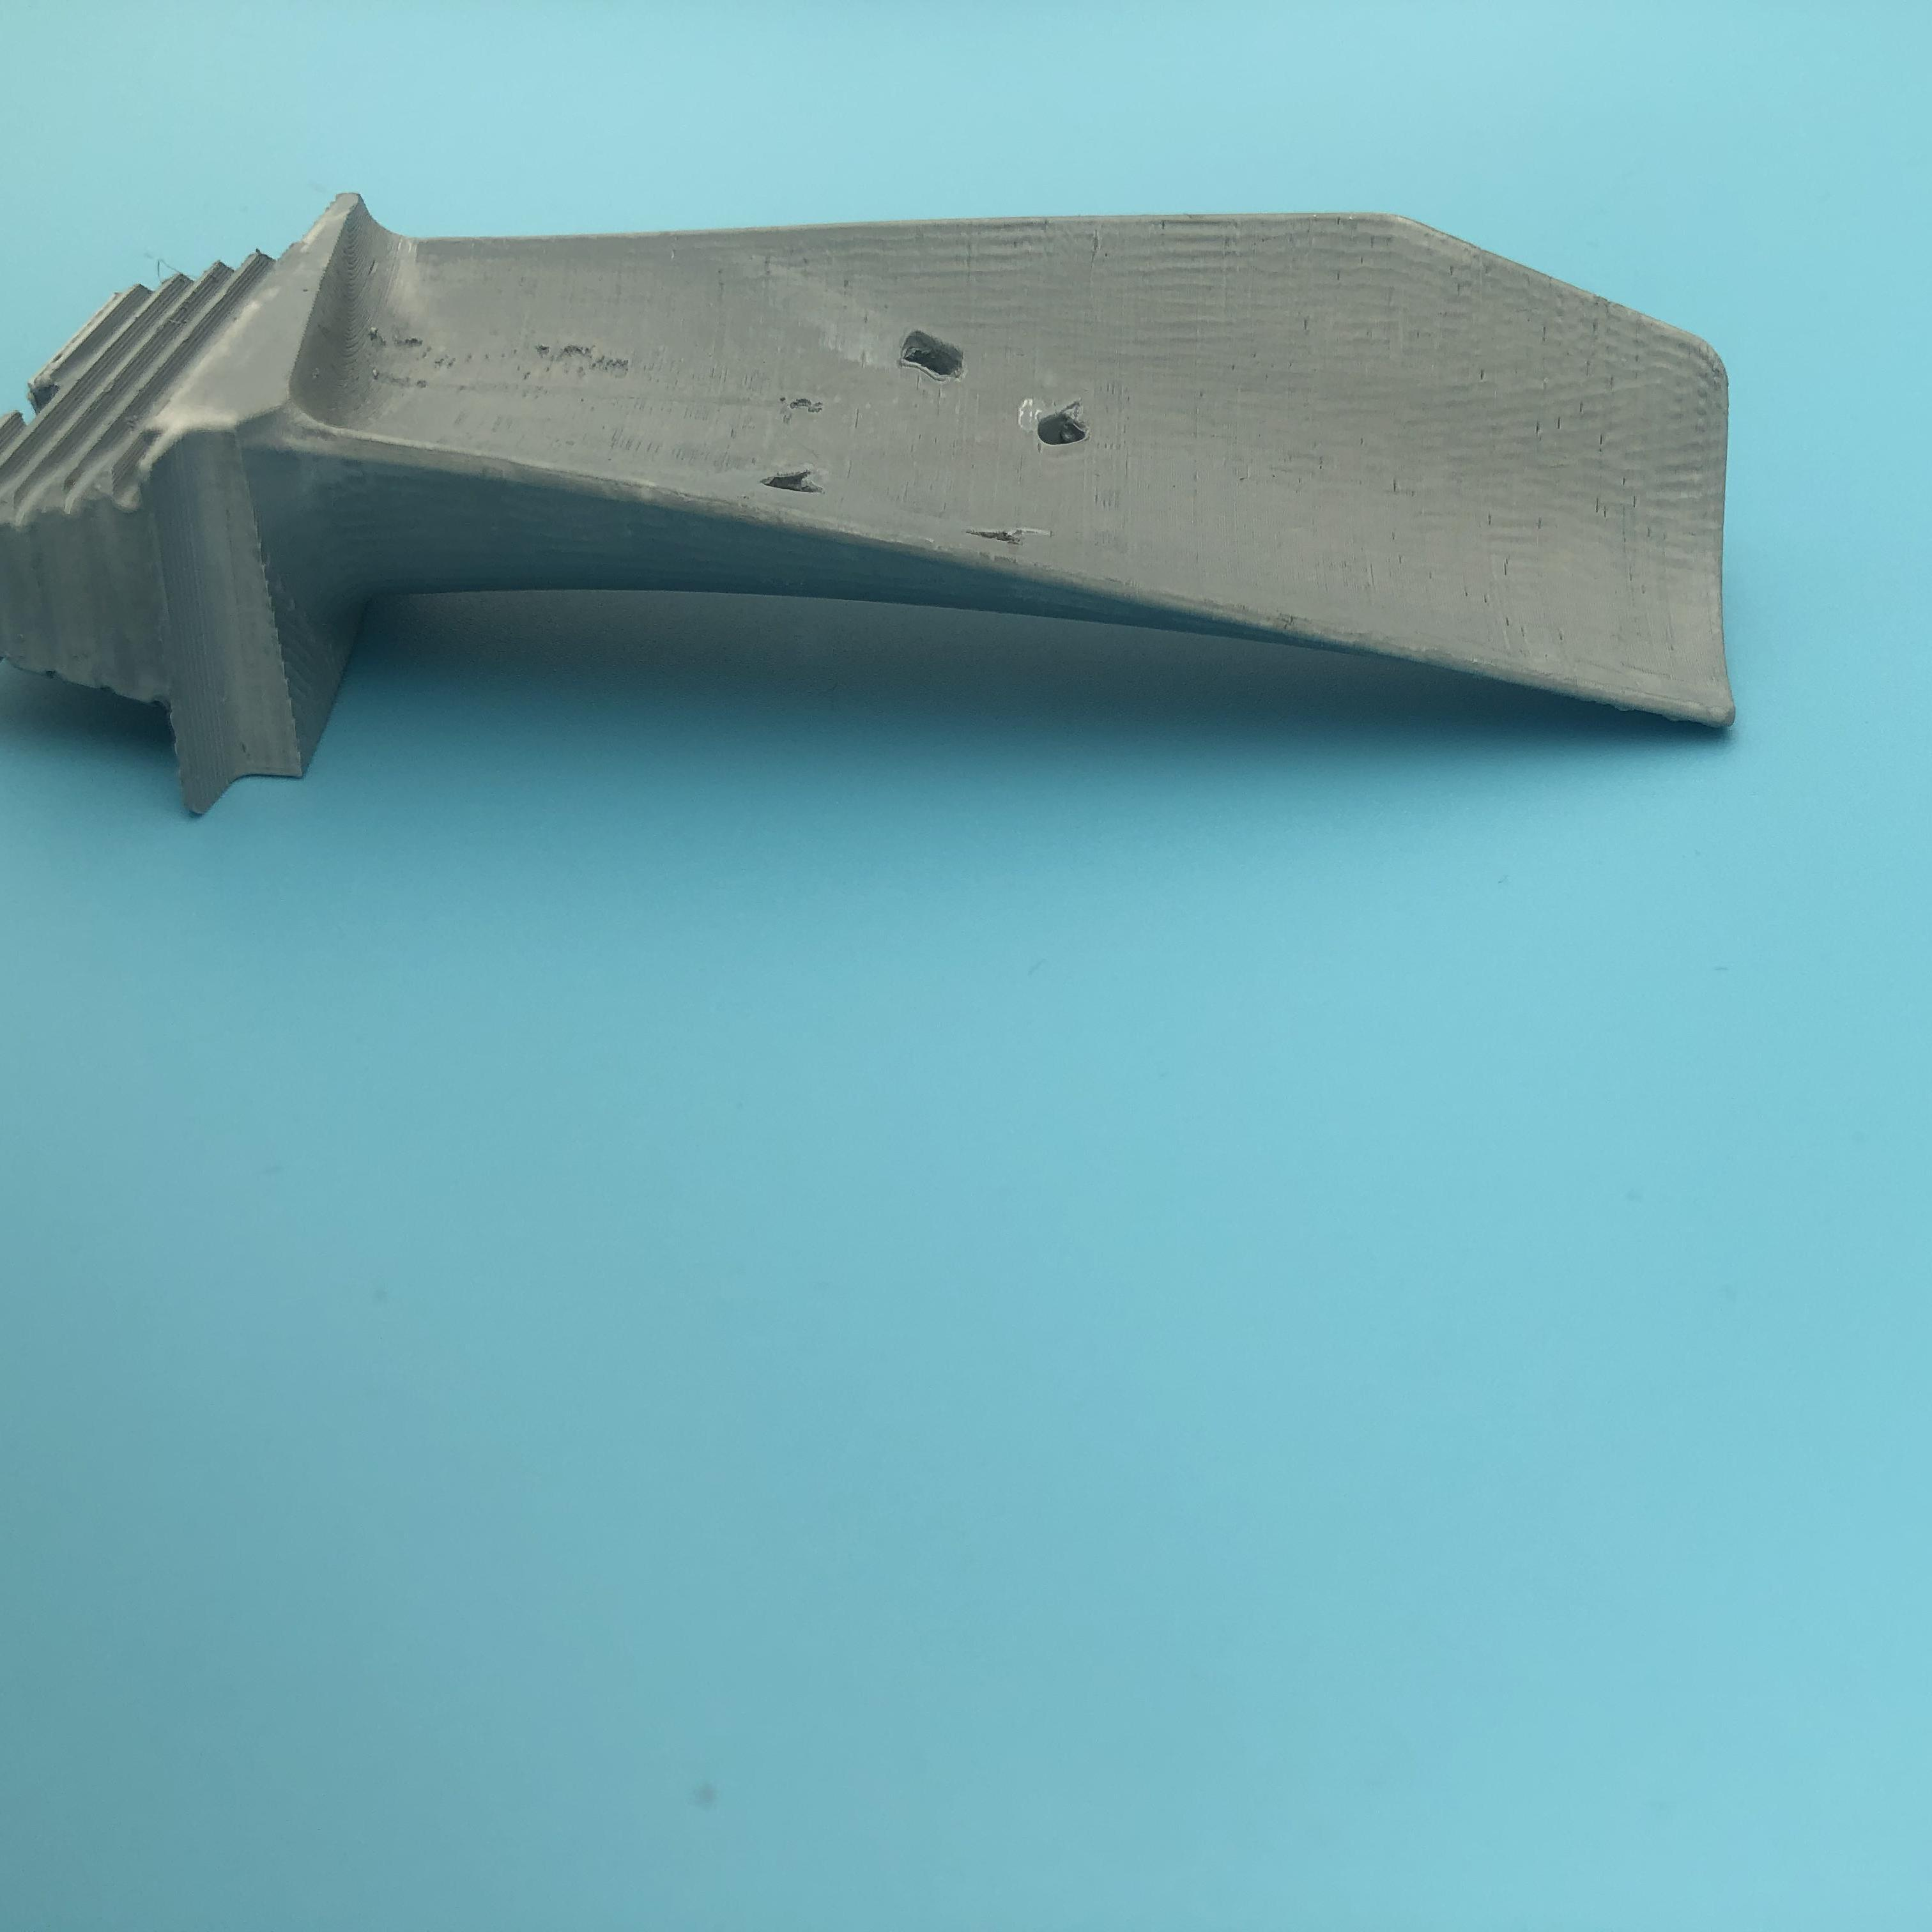breakdown: (771, 327, 1095, 564)
